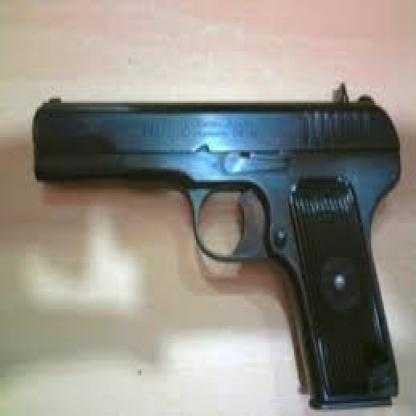Pistol: (27, 92, 400, 405)
